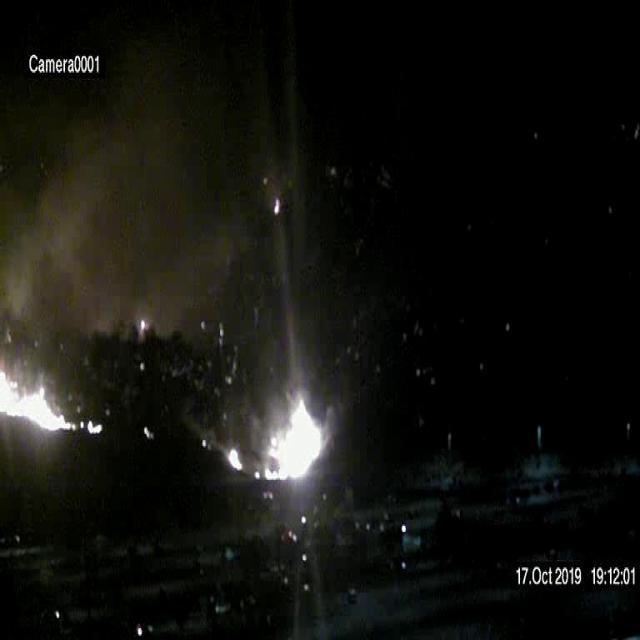Fire: (224, 391, 328, 488), (2, 364, 104, 438)
Smoke: (4, 92, 269, 317)
